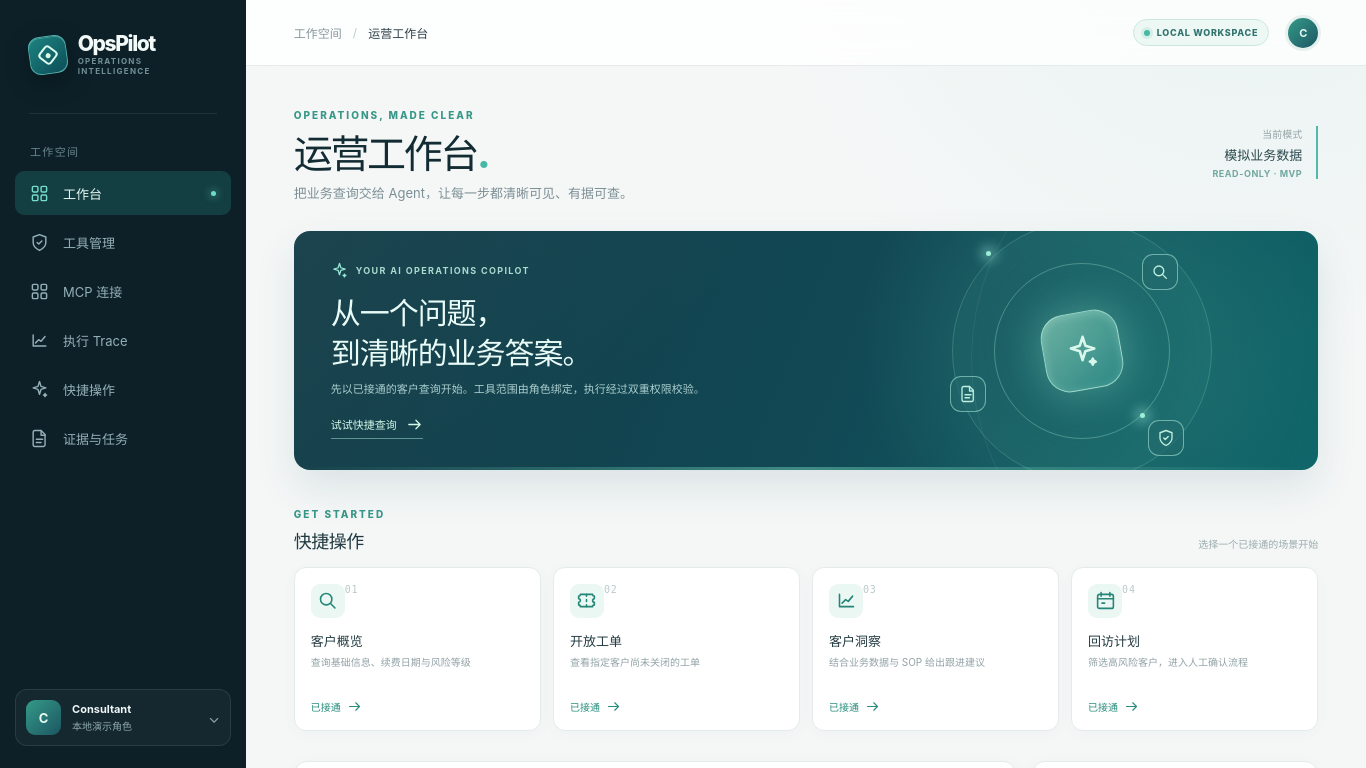
Scenario: OpsPilot current frontend slice › shows only connected quick actions and sends a typed direct query
Expected: the button with aria-label "客户洞察，填入提问" is enabled, left=812, top=567, right=1059, bottom=731
Expected: the button with aria-label "回访计划，填入提问" is enabled, left=1071, top=567, right=1318, bottom=731
Step 1. Click the button with aria-label "客户概览，填入提问" → coordinates (417, 649), box left=294, top=567, right=541, bottom=731
(page scrolled)
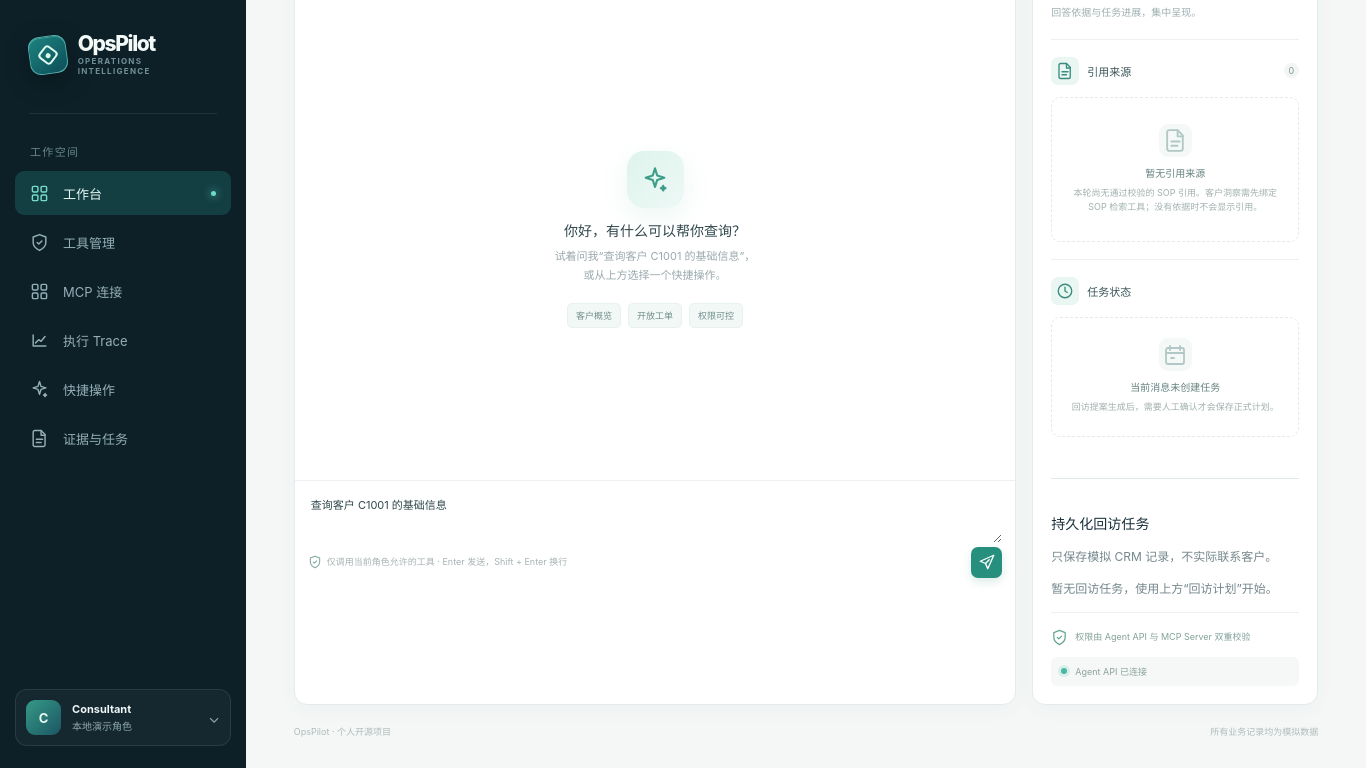
Expected: the text box named "输入业务问题" holds "查询客户 C1001 的基础信息", left=308, top=494, right=1002, bottom=543
Step 2. Click the button named "发送消息" → coordinates (987, 562), box left=971, top=547, right=1002, bottom=578
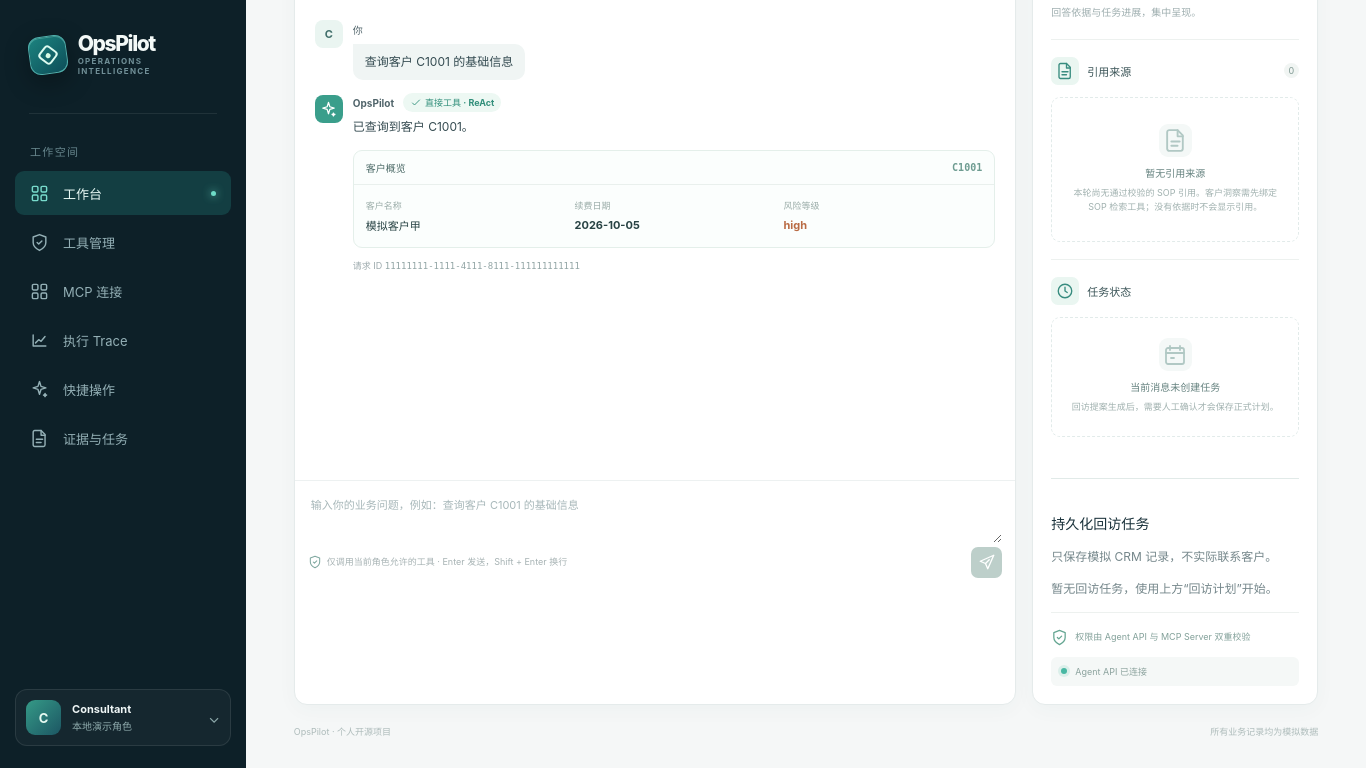
Expected: the text "模拟客户甲" is shown, left=366, top=219, right=421, bottom=233
Expected: the text "直接工具 · ReAct" is shown, left=403, top=93, right=501, bottom=112
Expected: the text "11111111-1111-4111-8111-111111111111" is shown, left=385, top=261, right=580, bottom=271
